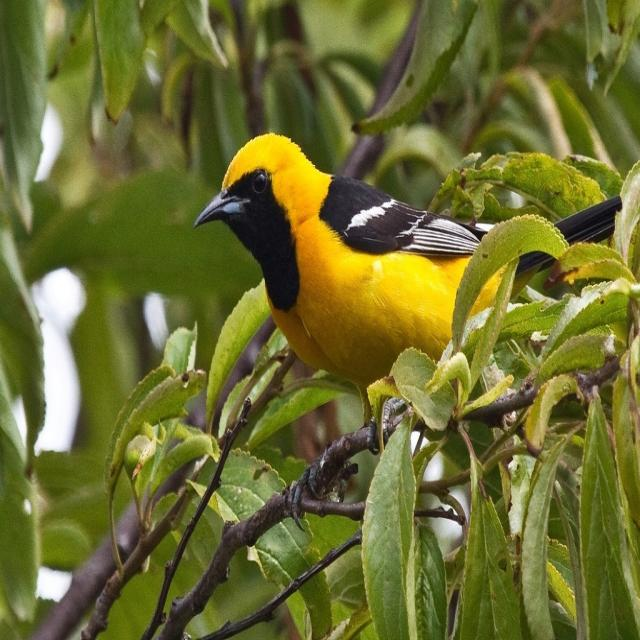bird: (192, 122, 624, 432)
